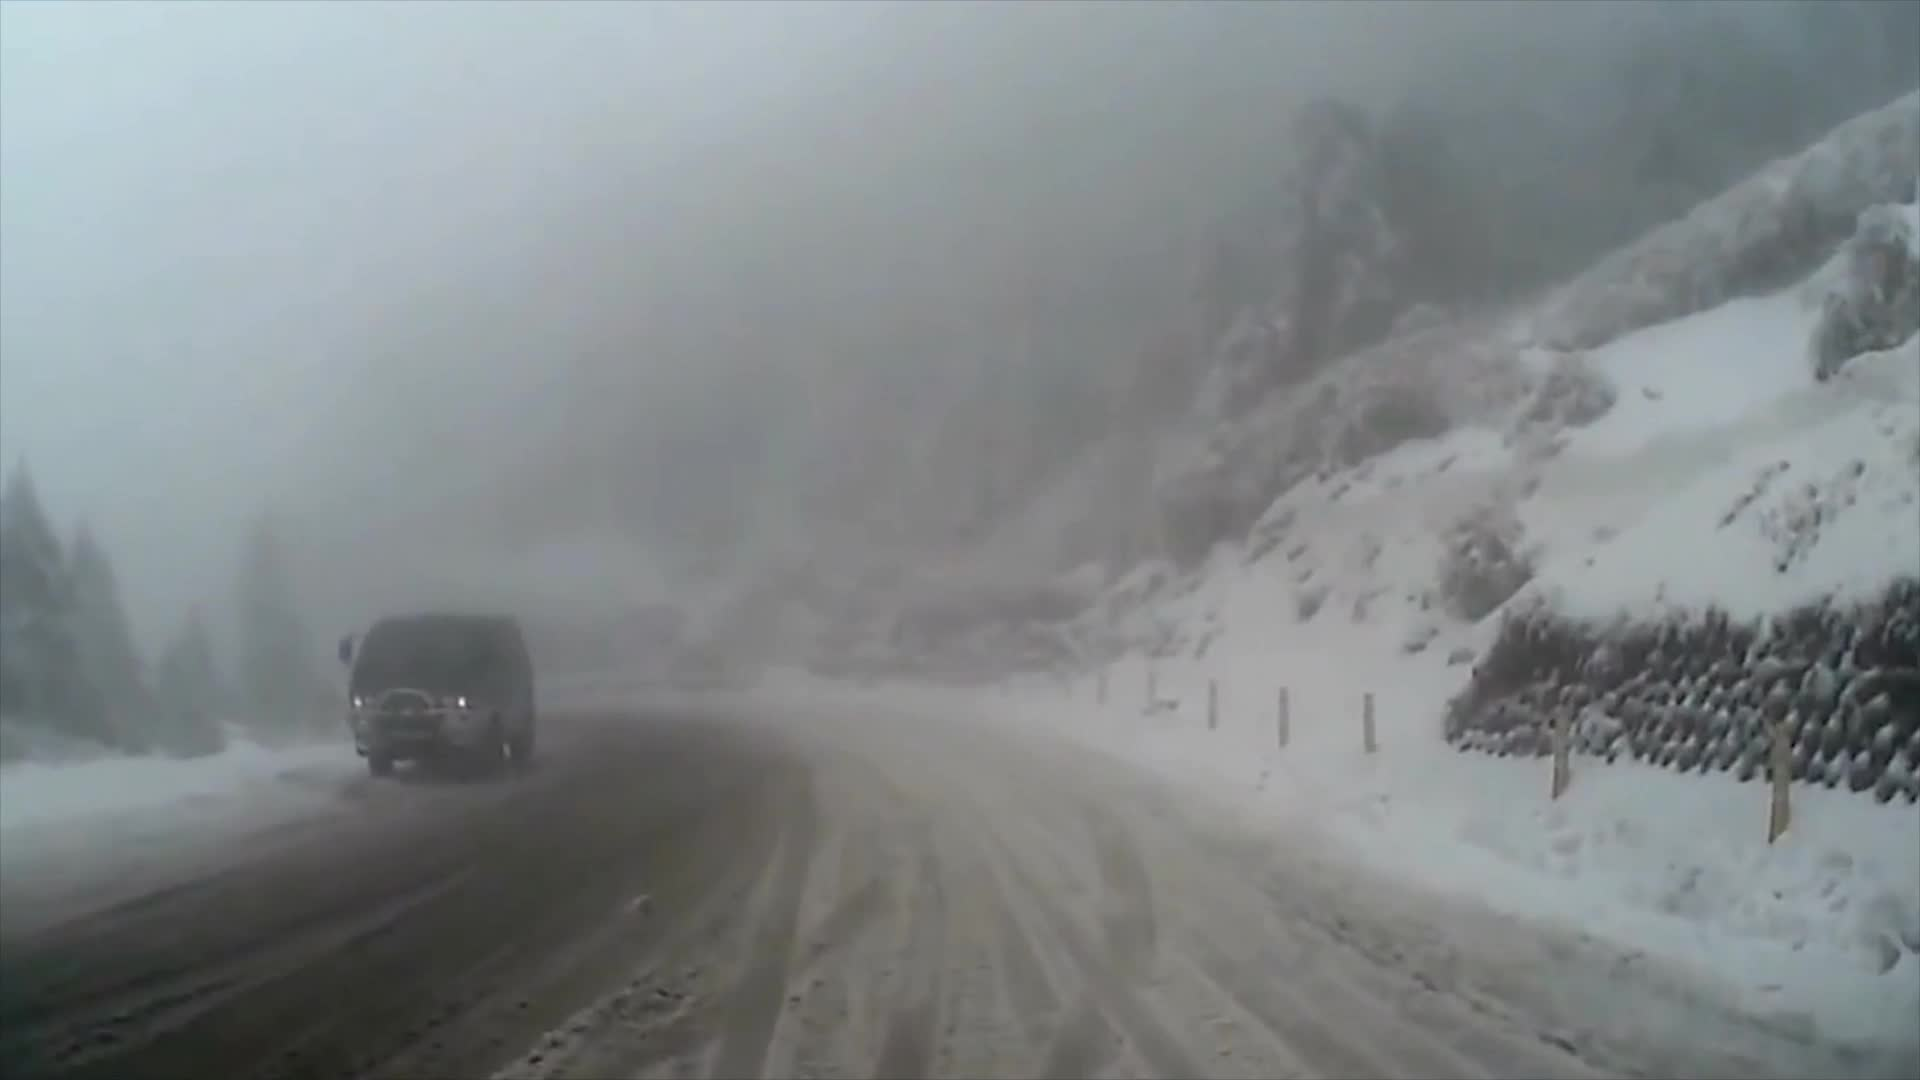vehicle: (335, 609, 537, 777)
